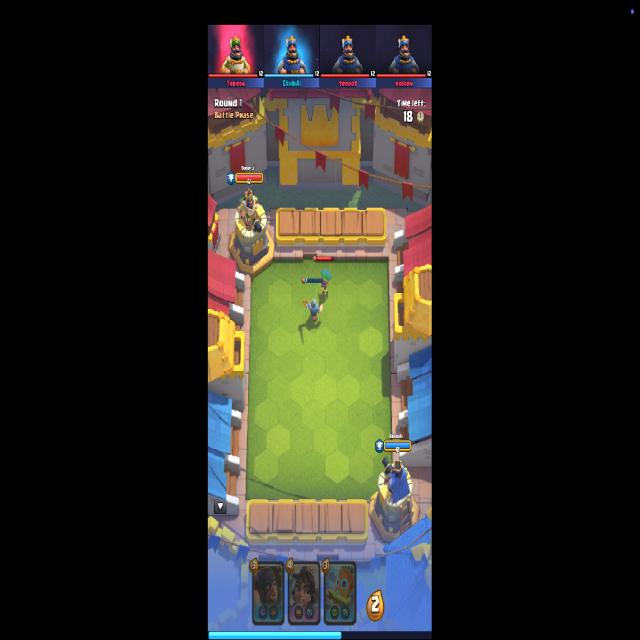card_dart_goblin: (323, 560, 356, 626)
card_executioner: (252, 562, 284, 626)
card_princess: (288, 560, 320, 626)
dart_goblin: (320, 268, 332, 298)
knight: (302, 298, 323, 322)
